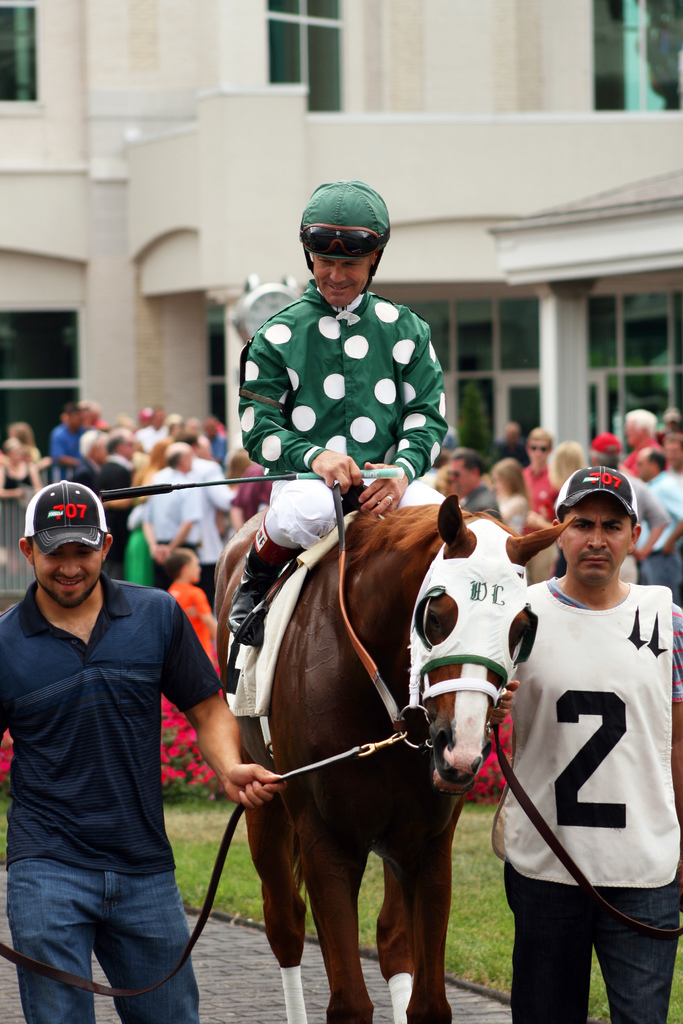Person: (4, 363, 683, 736), (0, 455, 295, 1024), (225, 167, 536, 702), (474, 451, 683, 1022)
